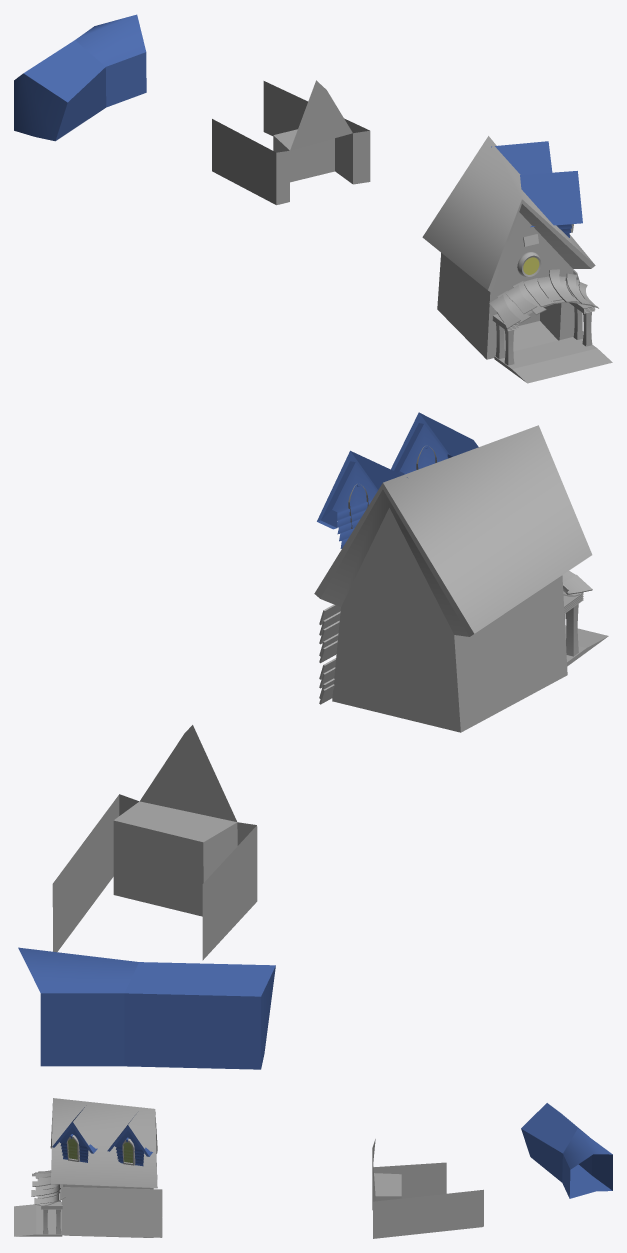
File: garage fbx trial.fbx
The picture shows the model from 3 angles, top to bottom: view 1: azimuth 30°, elevation 25°; view 2: azimuth 150°, elevation 25°; view 3: azimuth 270°, elevation 25°; orthographic projection. The views are drawn at different scales.
Visible parts, largest first — view 1: pCube72, pPlane31, pCube8, pCube71, polySurface35, pCube50, pCube51, pillar4; view 2: pCube72, pCube8, pPlane31, pCube51, pCube50, pCube84; view 3: pCube72, pPlane31, pCube8, pCube84, pCube71, pCube51, pCube50, polySurface35, pillar4.
Part boxes in pixels (left/top/right/bottom): pCube72: left=422, top=136, right=595, bottom=359; pPlane31: left=212, top=80, right=370, bottom=205; pCube8: left=14, top=14, right=146, bottom=141; pCube71: left=494, top=337, right=612, bottom=383; polySurface35: left=489, top=269, right=598, bottom=328; pCube50: left=520, top=171, right=582, bottom=237; pCube51: left=491, top=141, right=552, bottom=174; pillar4: left=495, top=307, right=592, bottom=365; pCube72: left=314, top=425, right=592, bottom=732; pCube8: left=18, top=947, right=275, bottom=1069; pPlane31: left=52, top=725, right=257, bottom=960; pCube51: left=317, top=450, right=407, bottom=548; pCube50: left=391, top=412, right=478, bottom=474; pCube84: left=319, top=604, right=340, bottom=704; pCube72: left=50, top=1098, right=157, bottom=1237; pPlane31: left=372, top=1139, right=483, bottom=1238; pCube8: left=521, top=1103, right=612, bottom=1198; pCube84: left=61, top=1187, right=162, bottom=1237; pCube71: left=14, top=1204, right=62, bottom=1236; pCube51: left=107, top=1117, right=152, bottom=1166; pCube50: left=52, top=1107, right=97, bottom=1162; polySurface35: left=31, top=1170, right=60, bottom=1204; pillar4: left=43, top=1200, right=61, bottom=1234.
Size of the model in its own units: 17.4 by 11.08 by 50.6.
